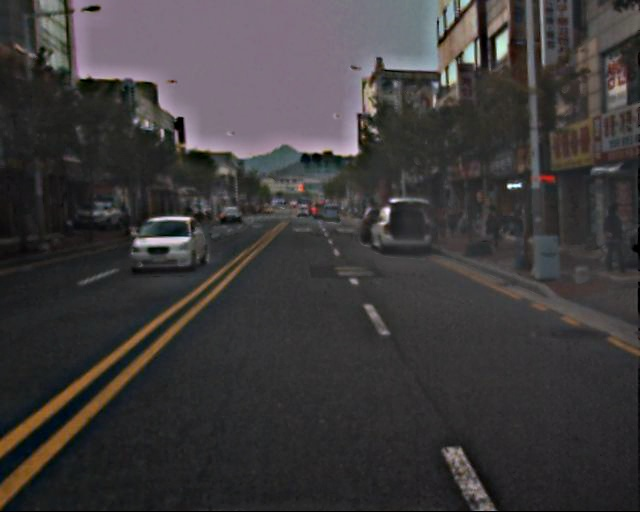person: (594, 204, 628, 274), (485, 205, 504, 251), (434, 203, 449, 240), (447, 207, 460, 238)
